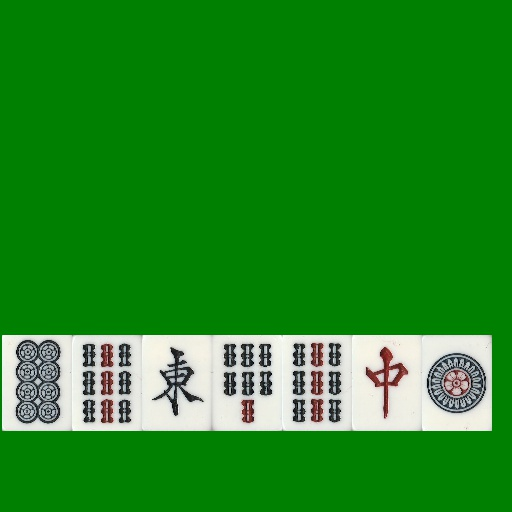1p: (422, 335, 492, 431)
7s: (212, 335, 282, 431)
8p: (2, 335, 72, 431)
9s: (72, 335, 142, 431), (282, 335, 352, 431)
east: (142, 335, 212, 431)
tyun: (352, 335, 422, 431)
